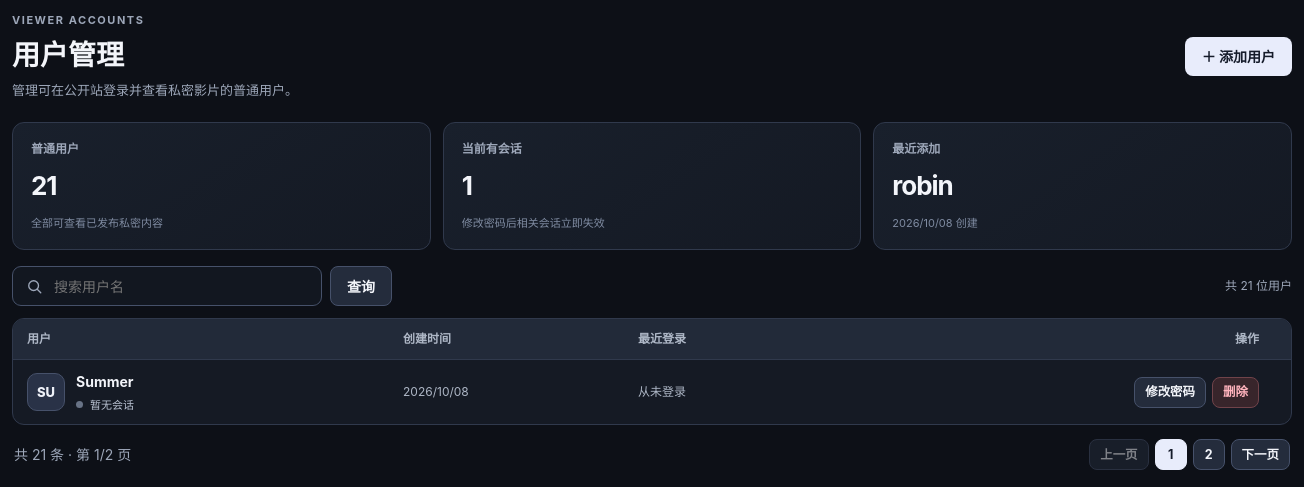
Test: searches usernames on the server and resets fixed twenty-item pagination
Click the button named "第 2 页": [1209, 455] box [1193,439,1225,470]
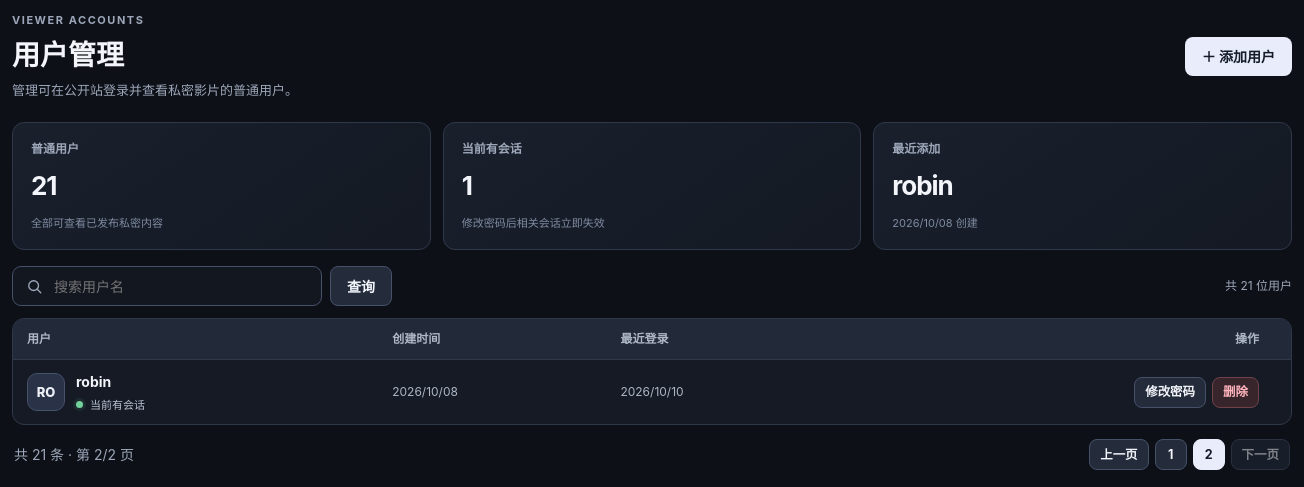
Expected: the row "ro robin 当前有会话 2026/10/08 2026/10/10 修改密码 删除" is shown, [13,360,1291,424]
In the search field labelled "搜索用户名": [180, 286] box [52,275,309,298], type "Summer"
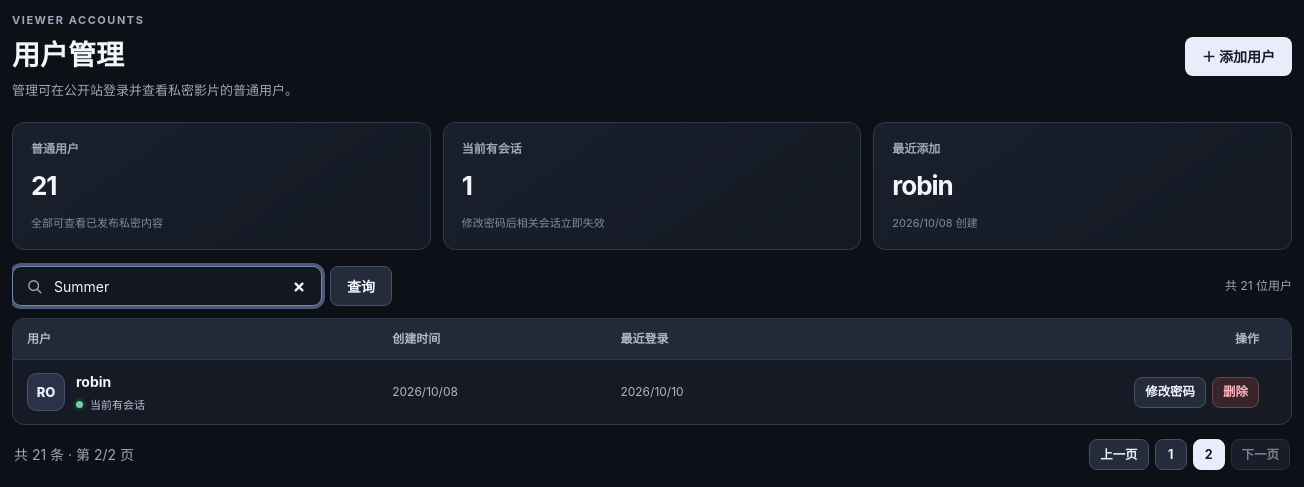
Press Enter
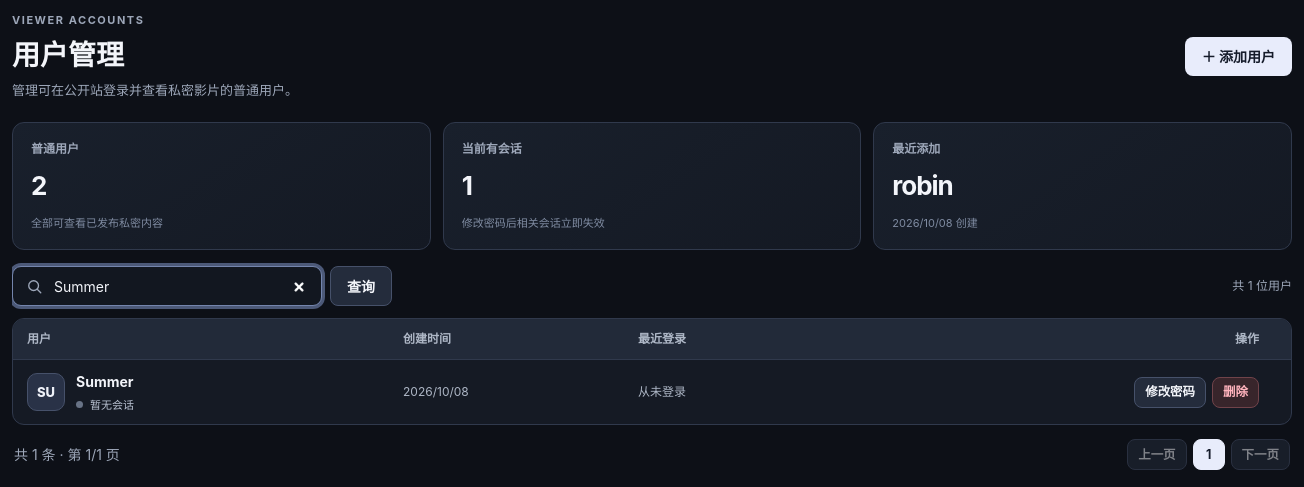
Expected: the row "Su Summer 暂无会话 2026/10/08 从未登录 修改密码 删除" is shown, [13,360,1291,424]
